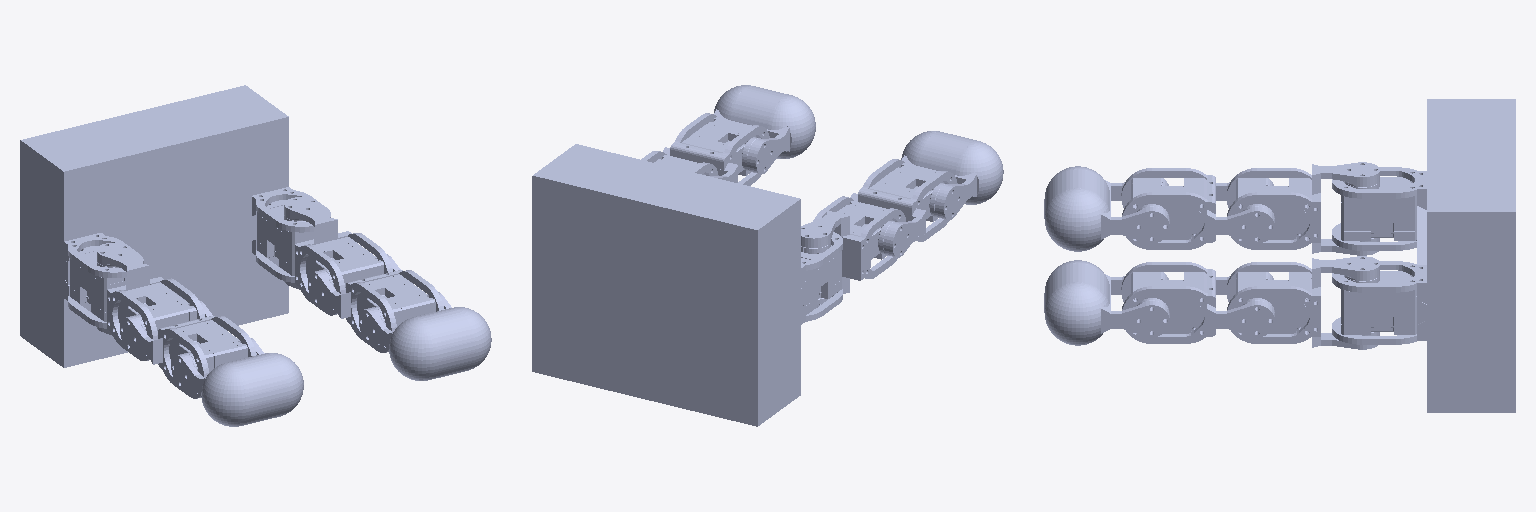
The robot description file, URDF, robot "WalkBot_3DOF":
<?xml version="1.0" encoding="utf-8"?>
<!-- This URDF was automatically created by SolidWorks to URDF Exporter! Originally created by [author] ([email redacted]) 
     Commit Version: 1.6.0-4-g7f85cfe  Build Version: 1.6.7995.38578
     For more information, please see http://wiki.ros.org/sw_urdf_exporter -->
<robot
  name="WalkBot_3DOF">
  <link
    name="Body">
    <inertial>
      <origin
        xyz="-8.18143322941311E-07 -0.00273725053593522 1.54414926854105E-05"
        rpy="0 0 0" />
      <mass
        value="0.520746828527768" />
      <inertia
        ixx="0.000471200271899893"
        ixy="2.75715917972108E-09"
        ixz="1.68094478399913E-10"
        iyy="0.000983833686042757"
        iyz="5.33273059309758E-09"
        izz="0.000654120958475657" />
    </inertial>
    <visual>
      <origin
        xyz="0 0 0"
        rpy="0 0 0" />
      <geometry>
        <mesh
          filename="../meshes/Body.STL" />
      </geometry>
      <material
        name="">
        <color
          rgba="0.792156862745098 0.819607843137255 0.933333333333333 1" />
      </material>
    </visual>
    <collision>
      <origin
        xyz="0 0 0"
        rpy="0 0 0" />
      <geometry>
        <mesh
          filename="../meshes/Body.STL" />
      </geometry>
    </collision>
  </link>
  <link
    name="Hip_R">
    <inertial>
      <origin
        xyz="0.000174801119477985 -0.0222232795565163 -0.000433697538201265"
        rpy="0 0 0" />
      <mass
        value="0.0230007365895397" />
      <inertia
        ixx="3.38038527155296E-06"
        ixy="2.66636683879314E-09"
        ixz="-8.41838748723652E-11"
        iyy="1.0750315407539E-06"
        iyz="-1.37683480362137E-09"
        izz="2.85194124414613E-06" />
    </inertial>
    <visual>
      <origin
        xyz="0 0 0"
        rpy="0 0 0" />
      <geometry>
        <mesh
          filename="../meshes/Hip_R.STL" />
      </geometry>
      <material
        name="">
        <color
          rgba="0.792156862745098 0.819607843137255 0.933333333333333 1" />
      </material>
    </visual>
    <collision>
      <origin
        xyz="0 0 0"
        rpy="0 0 0" />
      <geometry>
        <mesh
          filename="../meshes/Hip_R.STL" />
      </geometry>
    </collision>
  </link>
  <joint
    name="Hip_R"
    type="revolute">
    <origin
      xyz="-0.05 -0.058127 0.0005"
      rpy="0 0 0" />
    <parent
      link="Body" />
    <child
      link="Hip_R" />
    <axis
      xyz="0 0 1" />
    <limit
      lower="-1.57"
      upper="1.57"
      effort="0.52"
      velocity="10.89" />
  </joint>
  <link
    name="Knee_R">
    <inertial>
      <origin
        xyz="-0.000264092013899299 -0.0224188787501996 9.42397503330609E-06"
        rpy="0 0 0" />
      <mass
        value="0.022604308352287" />
      <inertia
        ixx="3.27436167088692E-06"
        ixy="2.66811008458344E-09"
        ixz="-8.29162619235472E-11"
        iyy="1.11333471633781E-06"
        iyz="-1.37858113387111E-09"
        izz="2.83878279589867E-06" />
    </inertial>
    <visual>
      <origin
        xyz="0 0 0"
        rpy="0 0 0" />
      <geometry>
        <mesh
          filename="../meshes/Knee_R.STL" />
      </geometry>
      <material
        name="">
        <color
          rgba="0.792156862745098 0.819607843137255 0.933333333333333 1" />
      </material>
    </visual>
    <collision>
      <origin
        xyz="0 0 0"
        rpy="0 0 0" />
      <geometry>
        <mesh
          filename="../meshes/Knee_R.STL" />
      </geometry>
    </collision>
  </link>
  <joint
    name="Knee_R"
    type="revolute">
    <origin
      xyz="0.0005 -0.047316 -0.0005"
      rpy="0 0 0" />
    <parent
      link="Hip_R" />
    <child
      link="Knee_R" />
    <axis
      xyz="-1 0 0" />
    <limit
      lower="-1.57"
      upper="1.57"
      effort="0.52"
      velocity="10.89" />
  </joint>
  <link
    name="Ankle_R">
    <inertial>
      <origin
        xyz="-0.000458850309986263 -0.0204363823905408 -1.04380805717468E-11"
        rpy="0 0 0" />
      <mass
        value="0.0318831730757301" />
      <inertia
        ixx="3.0992605738912E-06"
        ixy="1.74478800030802E-12"
        ixz="8.62441036807162E-14"
        iyy="5.54844222417291E-06"
        iyz="-1.54222974317604E-15"
        izz="5.68034830110217E-06" />
    </inertial>
    <visual>
      <origin
        xyz="0 0 0"
        rpy="0 0 0" />
      <geometry>
        <mesh
          filename="../meshes/Ankle_R.STL" />
      </geometry>
      <material
        name="">
        <color
          rgba="0.792156862745098 0.819607843137255 0.933333333333333 1" />
      </material>
    </visual>
    <collision>
      <origin
        xyz="0 0 0"
        rpy="0 0 0" />
      <geometry>
        <mesh
          filename="../meshes/Ankle_R.STL" />
      </geometry>
    </collision>
  </link>
  <joint
    name="Ankle_R"
    type="revolute">
    <origin
      xyz="0 -0.0473161341528267 0"
      rpy="0 0 0" />
    <parent
      link="Knee_R" />
    <child
      link="Ankle_R" />
    <axis
      xyz="-1 0 0" />
    <limit
      lower="-1.57"
      upper="1.57"
      effort="0.52"
      velocity="10.89" />
  </joint>
  <link
    name="Hip_L">
    <inertial>
      <origin
        xyz="0.00017480111947793 -0.0222232795565163 -0.000433697538201265"
        rpy="0 0 0" />
      <mass
        value="0.0230007365895397" />
      <inertia
        ixx="3.38038527155296E-06"
        ixy="2.66636683878931E-09"
        ixz="-8.41838748723415E-11"
        iyy="1.0750315407539E-06"
        iyz="-1.37683480362091E-09"
        izz="2.85194124414614E-06" />
    </inertial>
    <visual>
      <origin
        xyz="0 0 0"
        rpy="0 0 0" />
      <geometry>
        <mesh
          filename="../meshes/Hip_L.STL" />
      </geometry>
      <material
        name="">
        <color
          rgba="0.792156862745098 0.819607843137255 0.933333333333333 1" />
      </material>
    </visual>
    <collision>
      <origin
        xyz="0 0 0"
        rpy="0 0 0" />
      <geometry>
        <mesh
          filename="../meshes/Hip_L.STL" />
      </geometry>
    </collision>
  </link>
  <joint
    name="Hip_L"
    type="revolute">
    <origin
      xyz="0.0500000000000003 -0.0581271117592202 0.000499999999998217"
      rpy="0 0 0" />
    <parent
      link="Body" />
    <child
      link="Hip_L" />
    <axis
      xyz="0 0 1" />
    <limit
      lower="-1.57"
      upper="1.57"
      effort="0.52"
      velocity="10.89" />
  </joint>
  <link
    name="Knee_L">
    <inertial>
      <origin
        xyz="-0.000264092013899347 -0.0224188787501997 9.42397503331113E-06"
        rpy="0 0 0" />
      <mass
        value="0.022604308352287" />
      <inertia
        ixx="3.27436167088692E-06"
        ixy="2.66811008457903E-09"
        ixz="-8.29162619234519E-11"
        iyy="1.11333471633781E-06"
        iyz="-1.37858113387165E-09"
        izz="2.83878279589868E-06" />
    </inertial>
    <visual>
      <origin
        xyz="0 0 0"
        rpy="0 0 0" />
      <geometry>
        <mesh
          filename="../meshes/Knee_L.STL" />
      </geometry>
      <material
        name="">
        <color
          rgba="0.792156862745098 0.819607843137255 0.933333333333333 1" />
      </material>
    </visual>
    <collision>
      <origin
        xyz="0 0 0"
        rpy="0 0 0" />
      <geometry>
        <mesh
          filename="../meshes/Knee_L.STL" />
      </geometry>
    </collision>
  </link>
  <joint
    name="Knee_L"
    type="revolute">
    <origin
      xyz="0.000500000000000216 -0.0473161341528267 -0.000500000000000007"
      rpy="0 0 0" />
    <parent
      link="Hip_L" />
    <child
      link="Knee_L" />
    <axis
      xyz="1 0 0" />
    <limit
      lower="-1.57"
      upper="1.57"
      effort="0.52"
      velocity="10.89" />
  </joint>
  <link
    name="Ankle_L">
    <inertial>
      <origin
        xyz="-0.000458850309986318 -0.0204363823905409 -1.04380806352678E-11"
        rpy="0 0 0" />
      <mass
        value="0.0318831730757301" />
      <inertia
        ixx="3.0992605738912E-06"
        ixy="1.74478800581368E-12"
        ixz="8.62441033791981E-14"
        iyy="5.54844222417291E-06"
        iyz="-1.54222971828772E-15"
        izz="5.68034830110216E-06" />
    </inertial>
    <visual>
      <origin
        xyz="0 0 0"
        rpy="0 0 0" />
      <geometry>
        <mesh
          filename="../meshes/Ankle_L.STL" />
      </geometry>
      <material
        name="">
        <color
          rgba="0.792156862745098 0.819607843137255 0.933333333333333 1" />
      </material>
    </visual>
    <collision>
      <origin
        xyz="0 0 0"
        rpy="0 0 0" />
      <geometry>
        <mesh
          filename="../meshes/Ankle_L.STL" />
      </geometry>
    </collision>
  </link>
  <joint
    name="Ankle_L"
    type="revolute">
    <origin
      xyz="0 -0.0473161341528267 0"
      rpy="0 0 0" />
    <parent
      link="Knee_L" />
    <child
      link="Ankle_L" />
    <axis
      xyz="1 0 0" />
    <limit
      lower="-1.57"
      upper="1.57"
      effort="0.52"
      velocity="10.89" />
  </joint>
</robot>

--- What the picture shows (computed from the rendered views, not written in the file) ---
The picture shows the robot from 3 angles, left to right: view 1: azimuth 30°, elevation 25°; view 2: azimuth 150°, elevation 25°; view 3: azimuth 270°, elevation 25°; orthographic projection.
Robot: WalkBot_3DOF — 7 links, 6 joints (6 revolute); root link Body; default pose: every joint at zero.
Links seen in each view (by area): view 1: Body, Ankle_R, Ankle_L, Hip_L, Hip_R, Knee_R, Knee_L; view 2: Body, Ankle_R, Ankle_L, Knee_R, Hip_R, Knee_L, Hip_L; view 3: Body, Knee_R, Knee_L, Hip_R, Hip_L, Ankle_R, Ankle_L.
Boxes of the visible links, x1,y1,x2,y2 form: Body: [20, 85, 330, 367]; Ankle_R: [171, 338, 303, 426]; Ankle_L: [359, 292, 491, 380]; Hip_L: [284, 197, 392, 315]; Hip_R: [97, 243, 204, 360]; Knee_R: [120, 300, 256, 398]; Knee_L: [308, 254, 444, 352]; Body: [532, 144, 842, 426]; Ankle_R: [878, 131, 1003, 219]; Ankle_L: [692, 85, 815, 173]; Knee_R: [837, 159, 957, 257]; Hip_R: [801, 196, 905, 307]; Knee_L: [655, 113, 769, 185]; Hip_L: [641, 151, 718, 175]; Body: [1332, 99, 1515, 412]; Knee_R: [1121, 168, 1274, 249]; Knee_L: [1121, 262, 1274, 343]; Hip_R: [1227, 162, 1379, 255]; Hip_L: [1227, 256, 1379, 349]; Ankle_R: [1044, 166, 1169, 251]; Ankle_L: [1044, 260, 1169, 345].
Bounding box of the posed robot: 0.1499 × 0.2119 × 0.1 m (x, y, z).
7 mesh visuals loaded from 7 distinct referenced files (7 binary STL).
